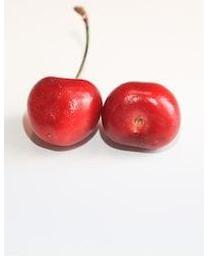cherry: (27, 76, 103, 147), (105, 82, 181, 152)
